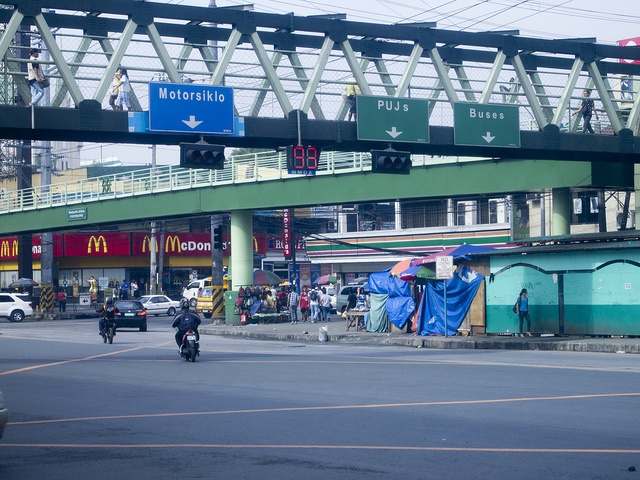non-vehicle: (176, 329, 200, 363), (95, 309, 119, 343), (179, 296, 189, 309)
